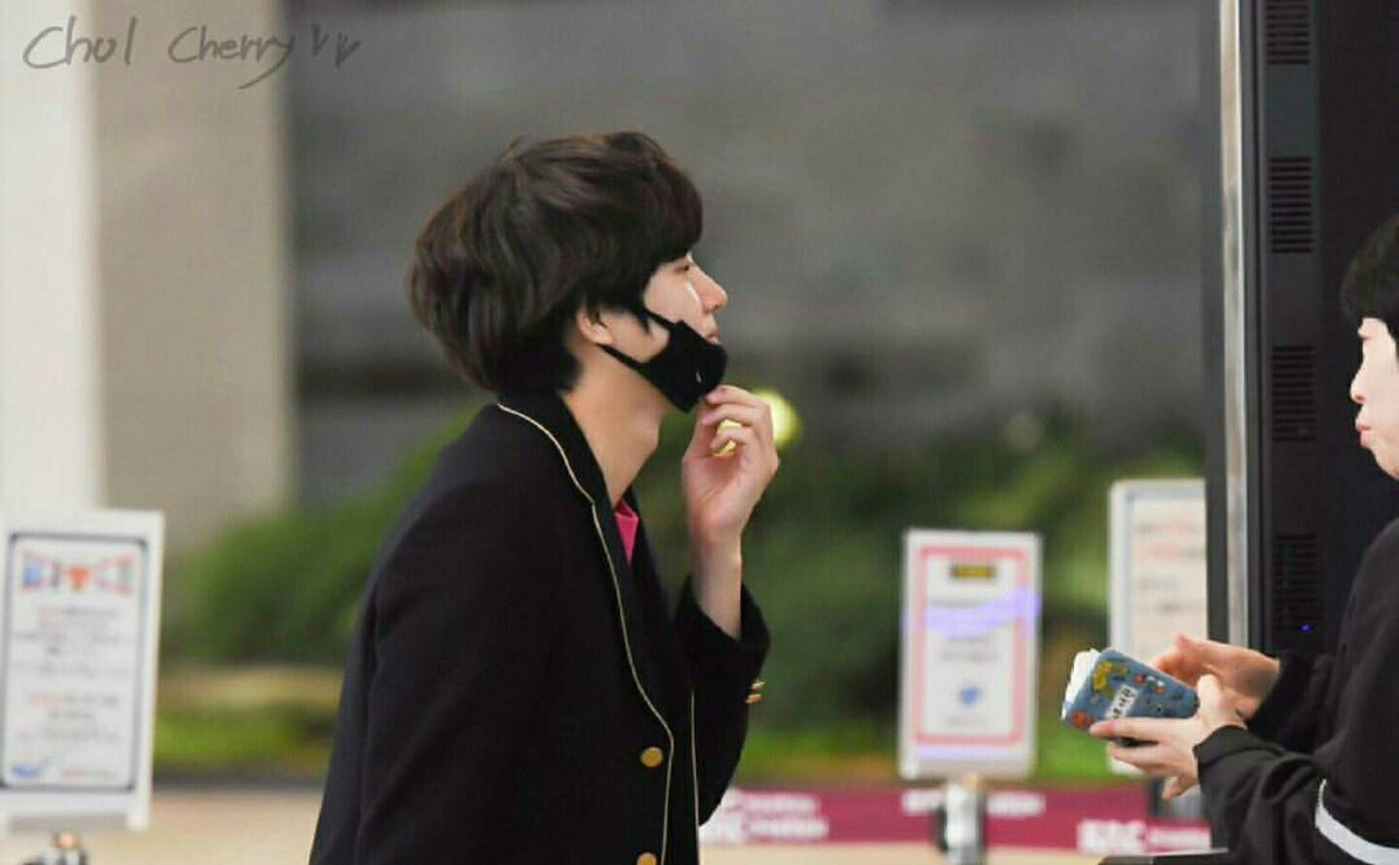NONE: (1347, 325, 1399, 472)
WRONG: (564, 227, 753, 416)
